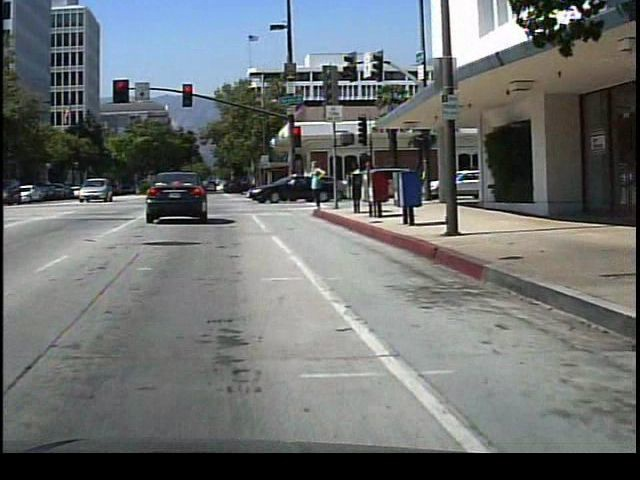person: (306, 153, 331, 214), (363, 155, 382, 206), (351, 157, 370, 204)
